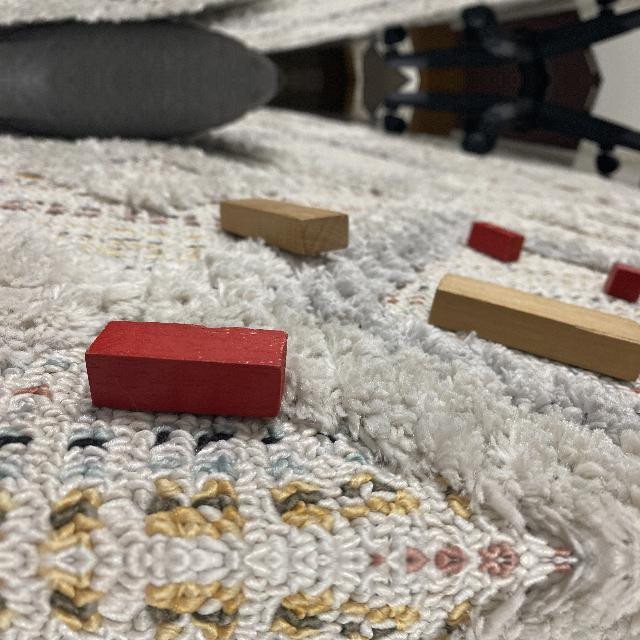jenga: (428, 274, 640, 382), (219, 199, 350, 257)
red block: (84, 321, 288, 418), (468, 222, 524, 262)
red cube: (603, 263, 640, 301)
